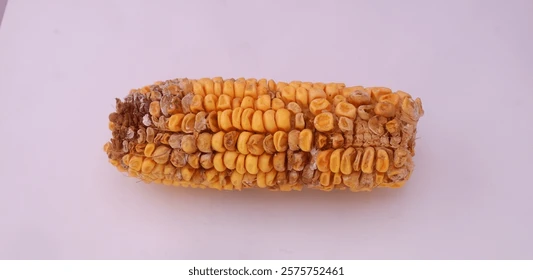rotten corn: (103, 63, 486, 231)
